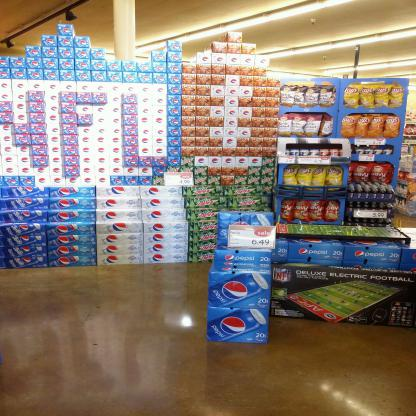Void: (287, 144, 341, 150)
